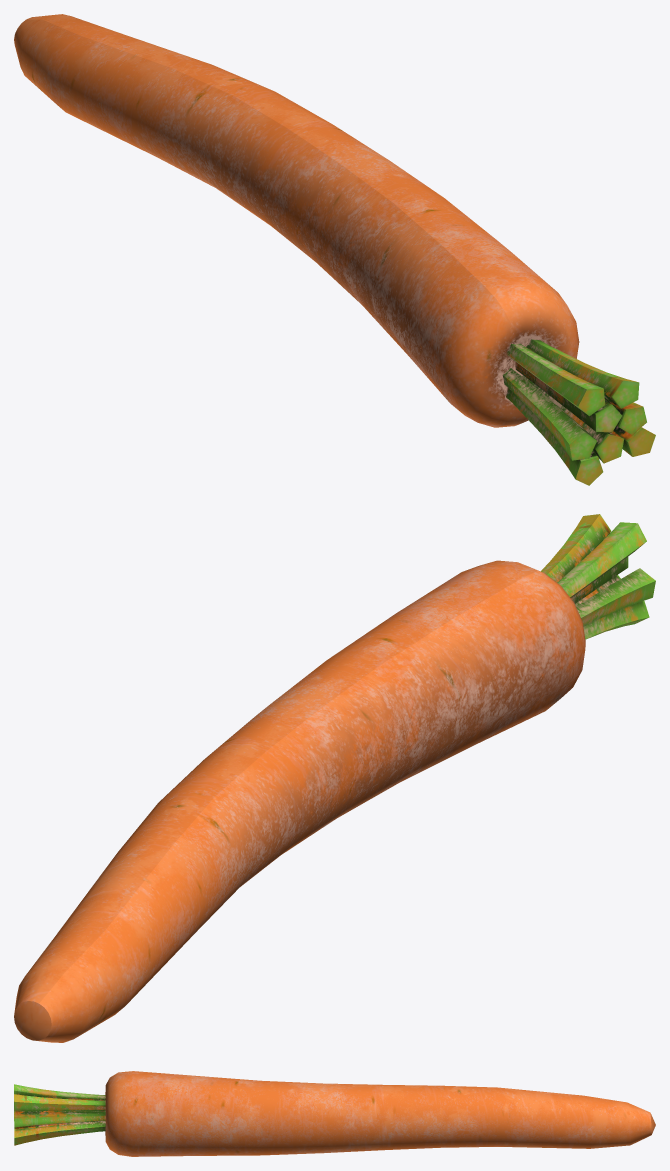
Rendered from Carrot.fbx.
The picture shows the model from 3 angles, top to bottom: view 1: azimuth 30°, elevation 25°; view 2: azimuth 150°, elevation 25°; view 3: azimuth 270°, elevation 25°; orthographic projection. The views are drawn at different scales.
Parts seen in each view (by area): view 1: Carrot_Low; view 2: Carrot_Low; view 3: Carrot_Low.
Boxes of the visible parts, bbox=[...] form: Carrot_Low: bbox=[14, 14, 655, 485]; Carrot_Low: bbox=[14, 514, 655, 1042]; Carrot_Low: bbox=[14, 1071, 655, 1156].
Bounding box in the file's own units: 198 × 184 × 1357.
1 material, 1 textured.
